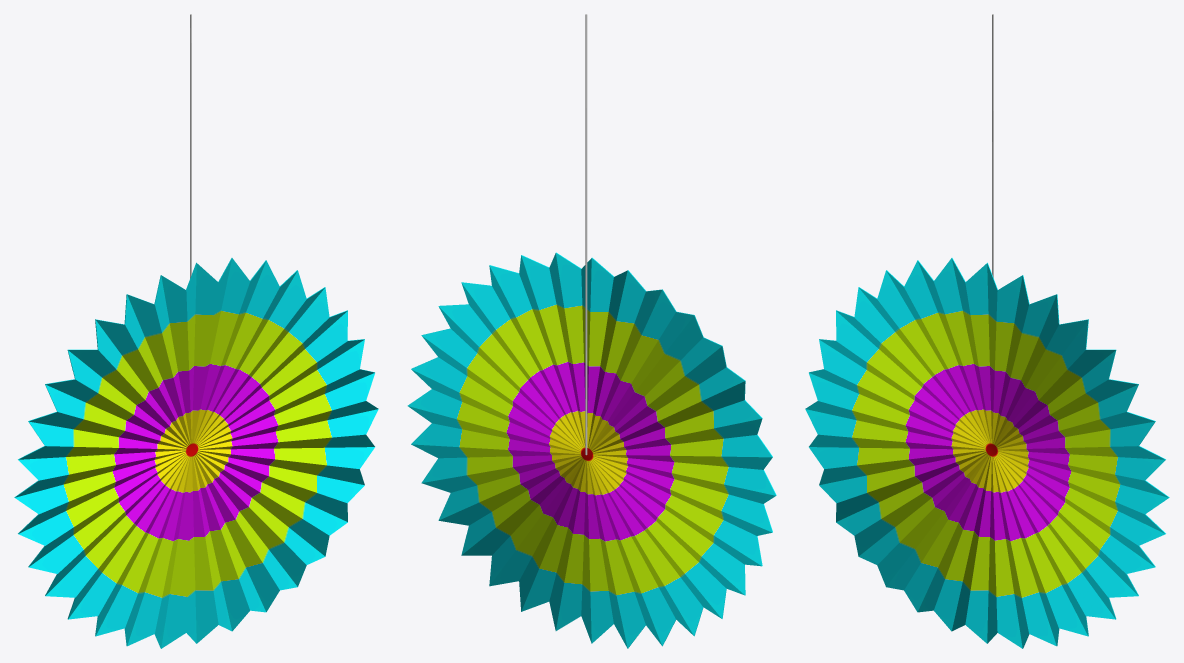
The model's file is PartyHangings01B_4.FBX.
3 views of the same model, side by side, from view 1: azimuth 30°, elevation 25°; view 2: azimuth 150°, elevation 25°; view 3: azimuth 330°, elevation 25° (orthographic).
Visible parts, largest first — view 1: PartyHangings01B_4; view 2: PartyHangings01B_4; view 3: PartyHangings01B_4.
Part boxes in pixels (bbox=[...]): PartyHangings01B_4: bbox=[14, 14, 378, 648]; PartyHangings01B_4: bbox=[407, 14, 776, 648]; PartyHangings01B_4: bbox=[805, 14, 1169, 648].
Size of what is drawn, in the model's own units: 0.4575 by 0.7506 by 0.0263.
